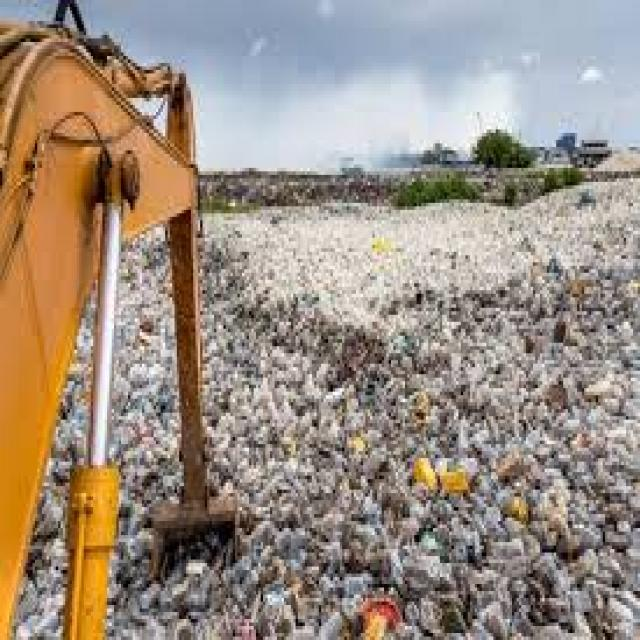heap: (274, 246, 630, 640)
